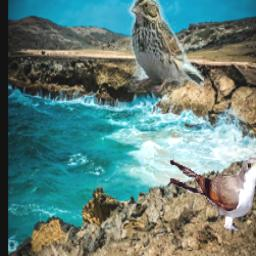Cuckoo: (171, 158, 256, 232)
Sparrow: (129, 0, 205, 93)
